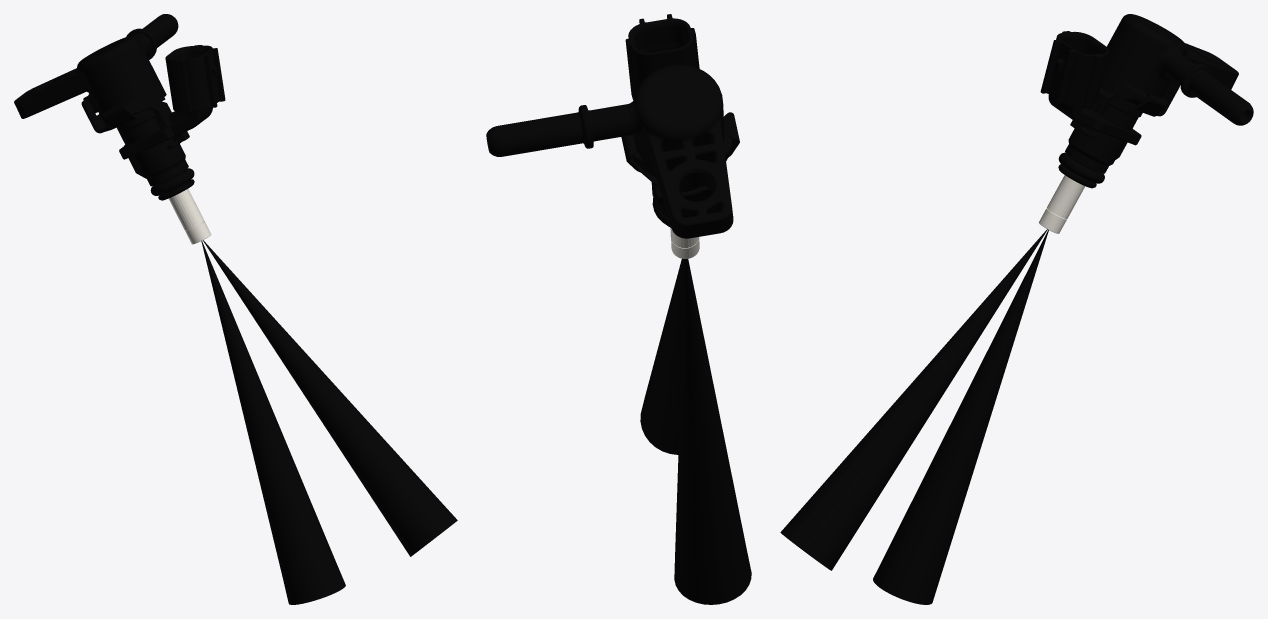
Rendered from Fuel Injector.glb.
The picture shows the model from 3 angles, left to right: view 1: azimuth 30°, elevation 25°; view 2: azimuth 150°, elevation 25°; view 3: azimuth 270°, elevation 25°; orthographic projection. The views are drawn at different scales.
Visible parts, largest first — view 1: final bike mod.049, final bike mod.063; view 2: final bike mod.049, final bike mod.063; view 3: final bike mod.049, final bike mod.063.
Part boxes in pixels (box(x1,y1,x2,y2)): final bike mod.049: box(14, 14, 457, 604); final bike mod.063: box(168, 189, 211, 244); final bike mod.049: box(486, 14, 751, 604); final bike mod.063: box(670, 228, 699, 258); final bike mod.049: box(780, 14, 1253, 604); final bike mod.063: box(1039, 175, 1084, 233).
Size of the model in its own units: 0.5839 by 1.12 by 0.8838.
Materials: 2 (1 with a texture image).
